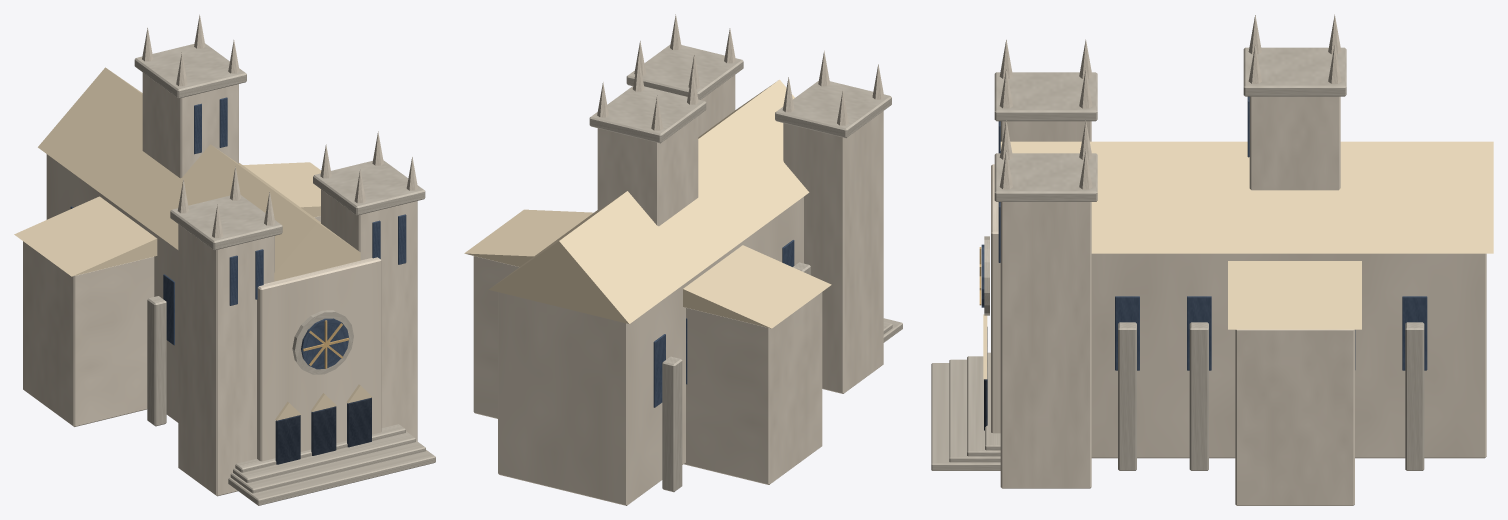
The model's file is national-cathedral.glb.
3 renders of one model, left to right at view 1: azimuth 30°, elevation 25°; view 2: azimuth 150°, elevation 25°; view 3: azimuth 270°, elevation 25°, orthographic. The views are drawn at different scales.
Visible parts, largest first — view 1: national-cathedral; view 2: national-cathedral; view 3: national-cathedral.
Part boxes in pixels (x1,y1,x2,y2): national-cathedral: (14,14,435,505); national-cathedral: (464,14,902,505); national-cathedral: (931,14,1493,505).
Size of the model in its own units: 8.3 by 9.3 by 11.75.
1 material, 1 textured.
